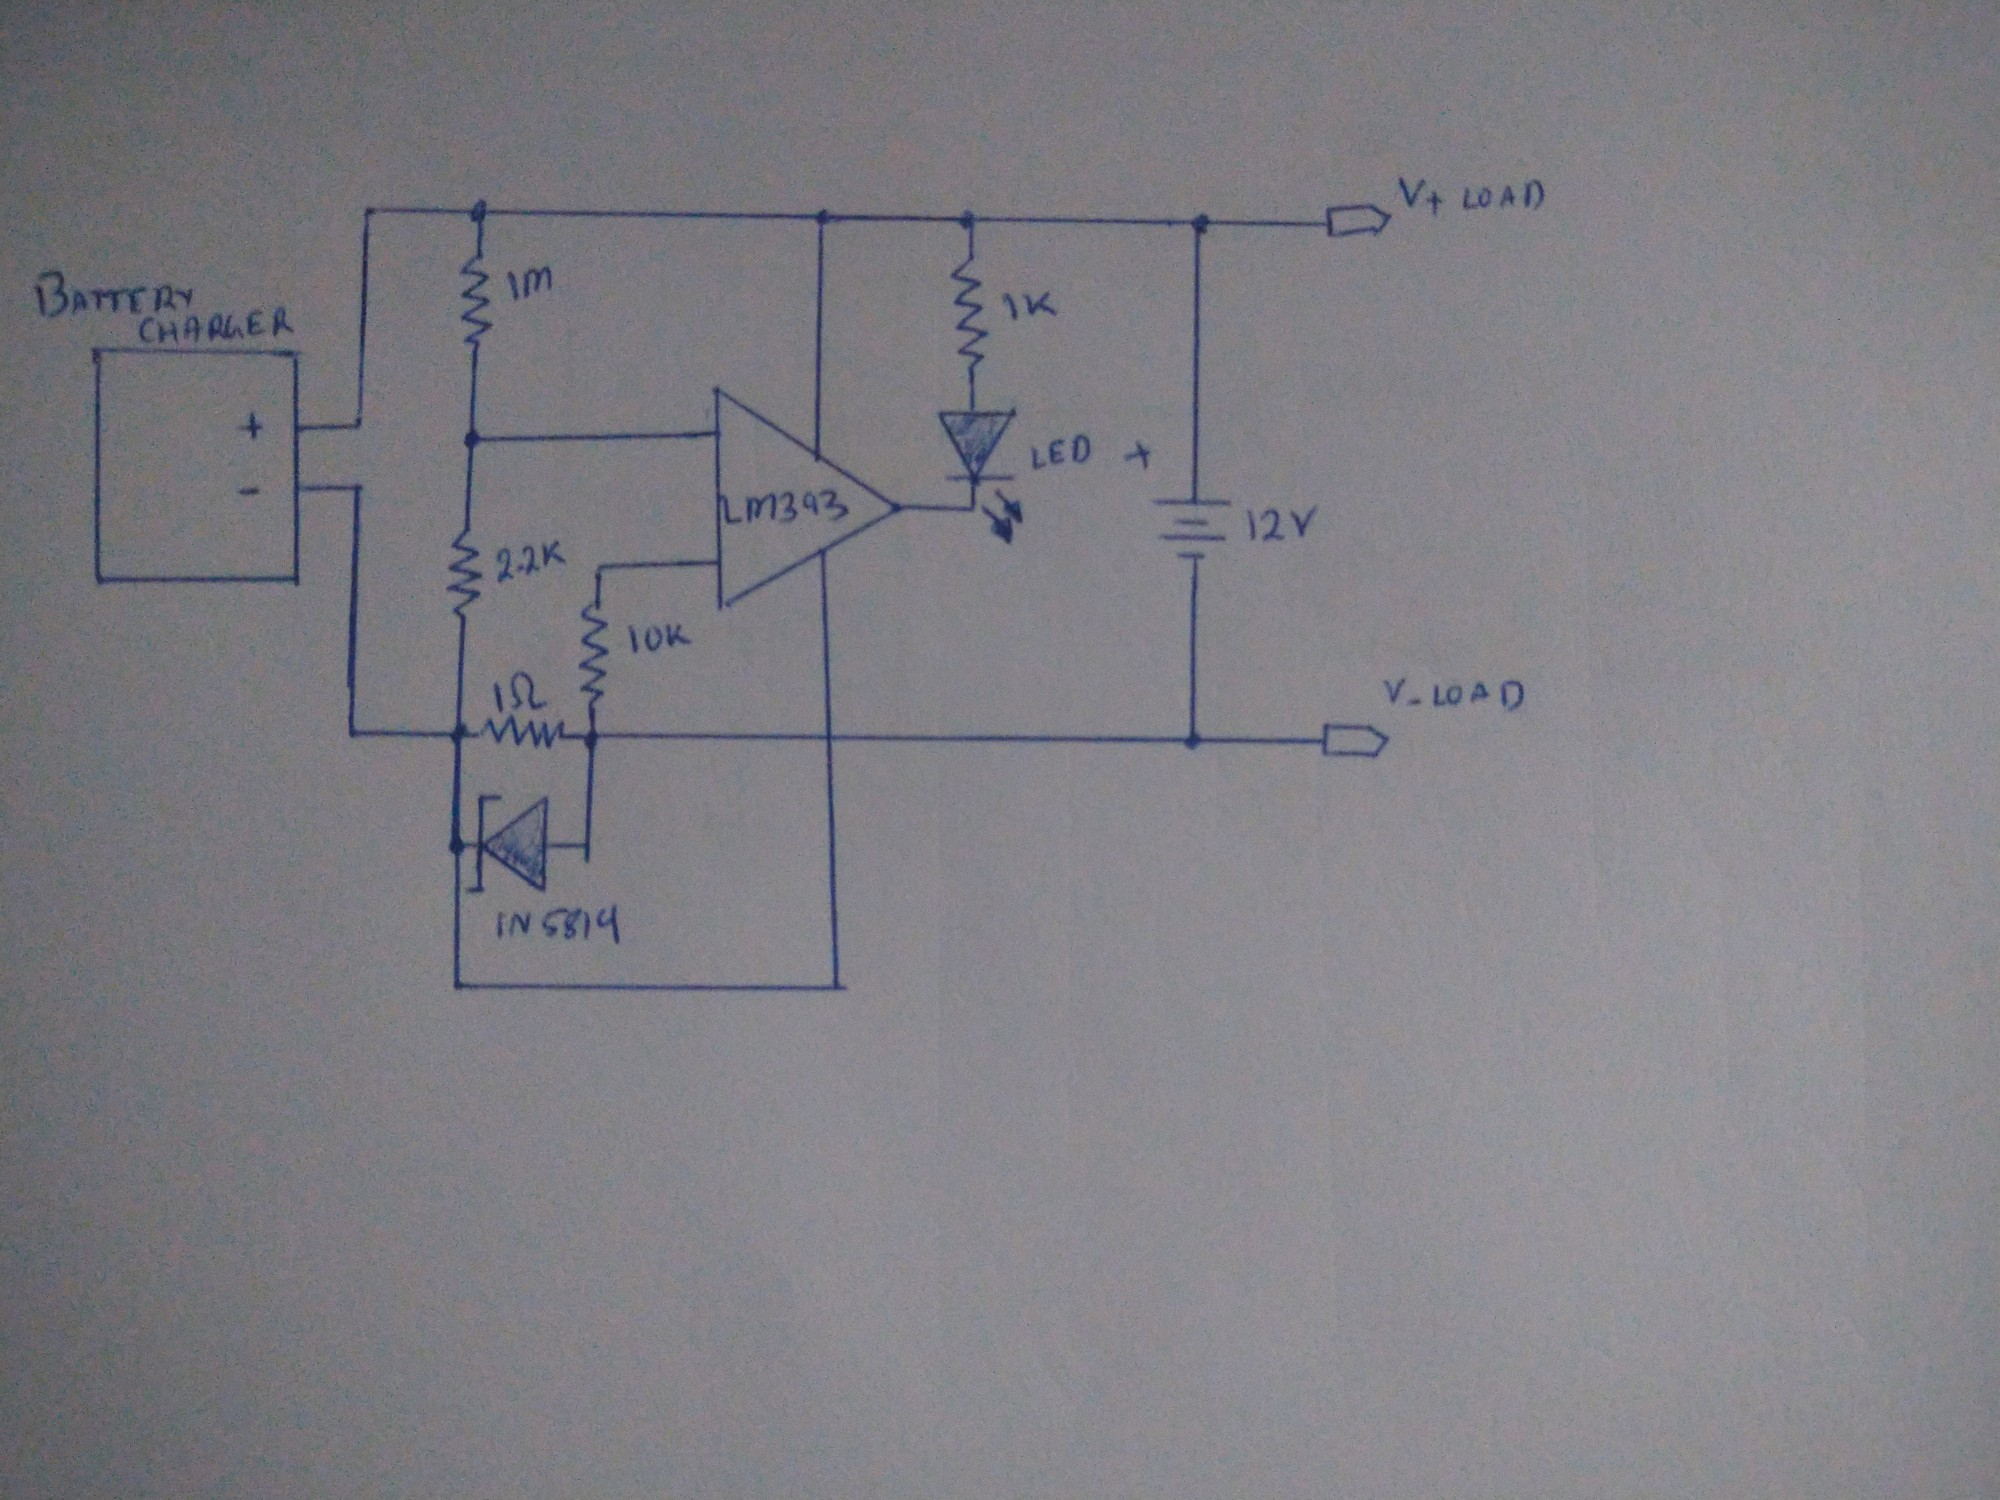crossover: (817, 725, 843, 748)
diode: (465, 791, 554, 901)
diode.light_emitting: (932, 407, 1033, 548)
junction: (460, 191, 502, 228), (1176, 723, 1214, 759), (1184, 206, 1219, 241), (953, 205, 987, 236), (454, 425, 491, 454), (808, 203, 839, 235), (444, 830, 474, 862), (575, 726, 608, 755), (346, 410, 376, 438), (446, 718, 474, 745), (824, 974, 850, 999), (589, 555, 614, 581), (572, 835, 600, 859), (343, 477, 372, 501), (342, 720, 365, 745), (357, 202, 383, 224), (447, 974, 469, 996), (962, 499, 981, 522)
operational_amplifier: (709, 384, 909, 614)
resistor: (950, 251, 992, 370), (457, 251, 498, 351), (580, 596, 613, 714), (446, 526, 485, 624), (476, 715, 569, 755)
terminal: (1318, 720, 1394, 763), (1321, 200, 1395, 241)
text: (24, 266, 195, 317), (1394, 172, 1551, 224), (1380, 671, 1532, 722), (139, 307, 298, 347), (491, 904, 627, 949), (718, 487, 852, 525), (491, 537, 572, 586), (1241, 503, 1321, 545), (488, 666, 553, 714), (1027, 432, 1094, 476), (624, 621, 694, 659), (998, 287, 1060, 325), (504, 263, 561, 304)
voltage.dc: (82, 336, 313, 597), (1150, 493, 1238, 569)
